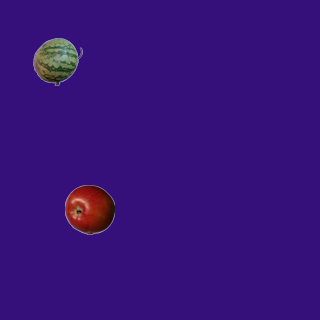Apple Braeburn: (64, 184, 114, 234)
Watermelon: (32, 36, 82, 86)
